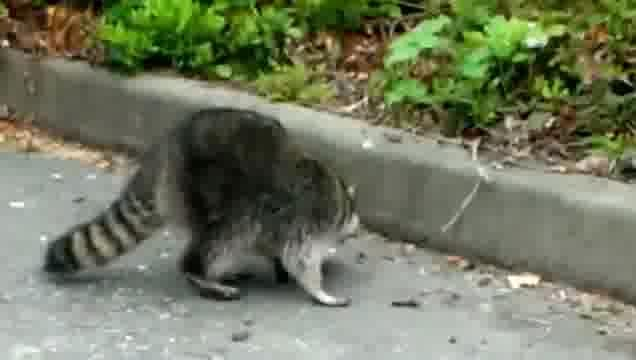raccoon: (41, 105, 363, 311)
